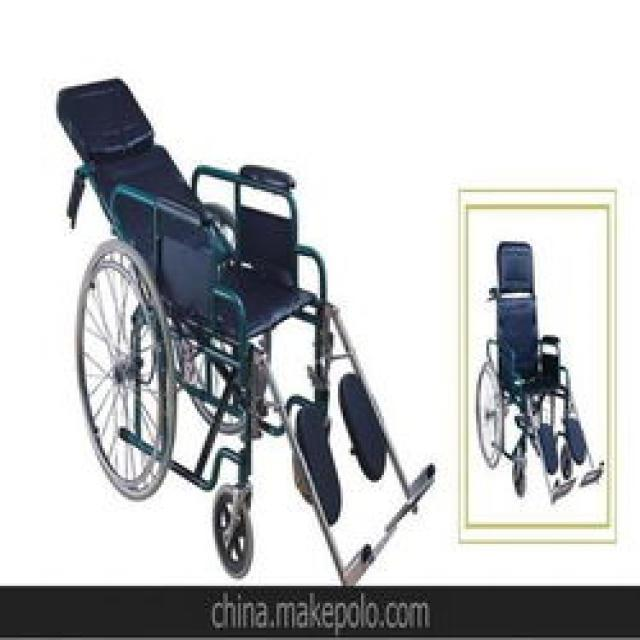wheelchair: (26, 69, 440, 588), (471, 231, 594, 522)
